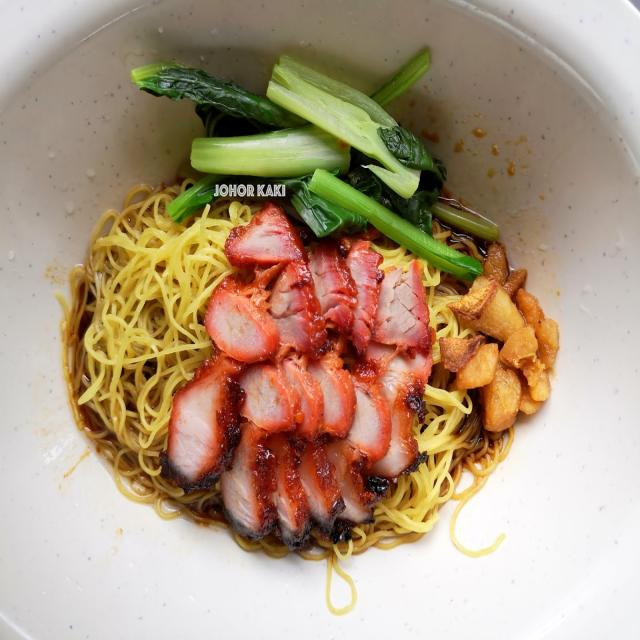Carbohydrate: (88, 159, 469, 554)
Noodle: (0, 1, 640, 640)
Protein: (171, 196, 558, 538)
Vegetable: (130, 45, 508, 274)
